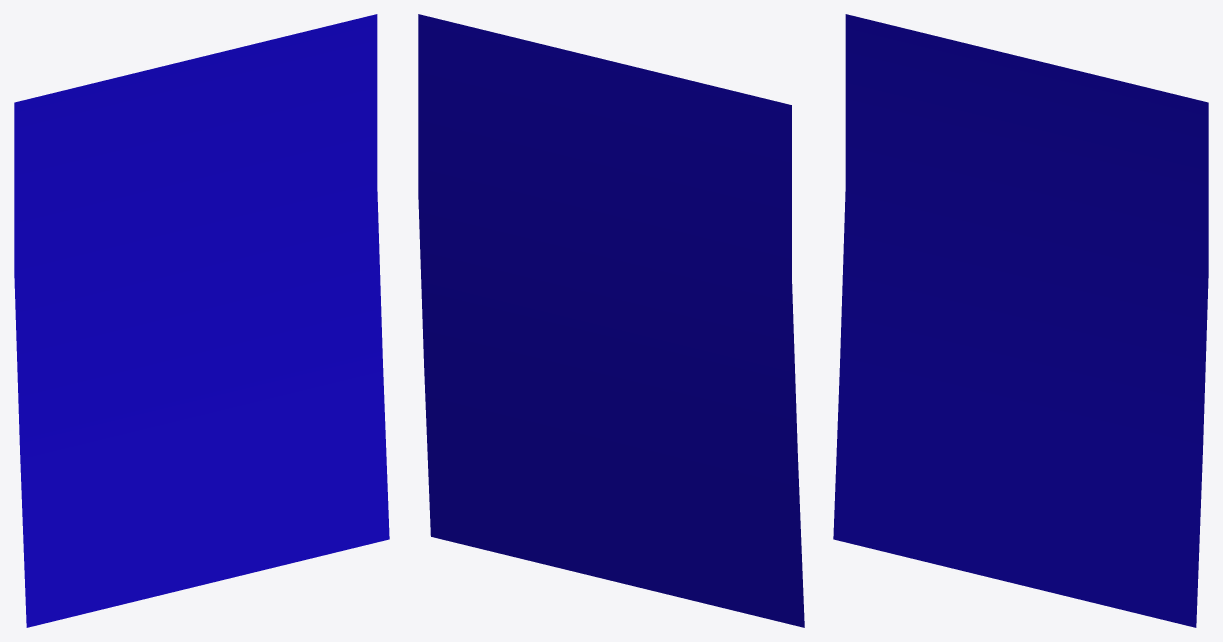
Rendered from SM_town_paper.fbx.
3 views of the same model, side by side, from view 1: azimuth 30°, elevation 25°; view 2: azimuth 150°, elevation 25°; view 3: azimuth 330°, elevation 25° (orthographic). The views are drawn at different scales.
Parts seen in each view (by area): view 1: market_paper; view 2: market_paper; view 3: market_paper.
Part boxes in pixels (x1,y1,x2,y2): market_paper: (14, 14, 389, 627); market_paper: (418, 14, 804, 627); market_paper: (833, 14, 1208, 627).
Size of the model in its own units: 51.06 by 69.43 by 2.99.
